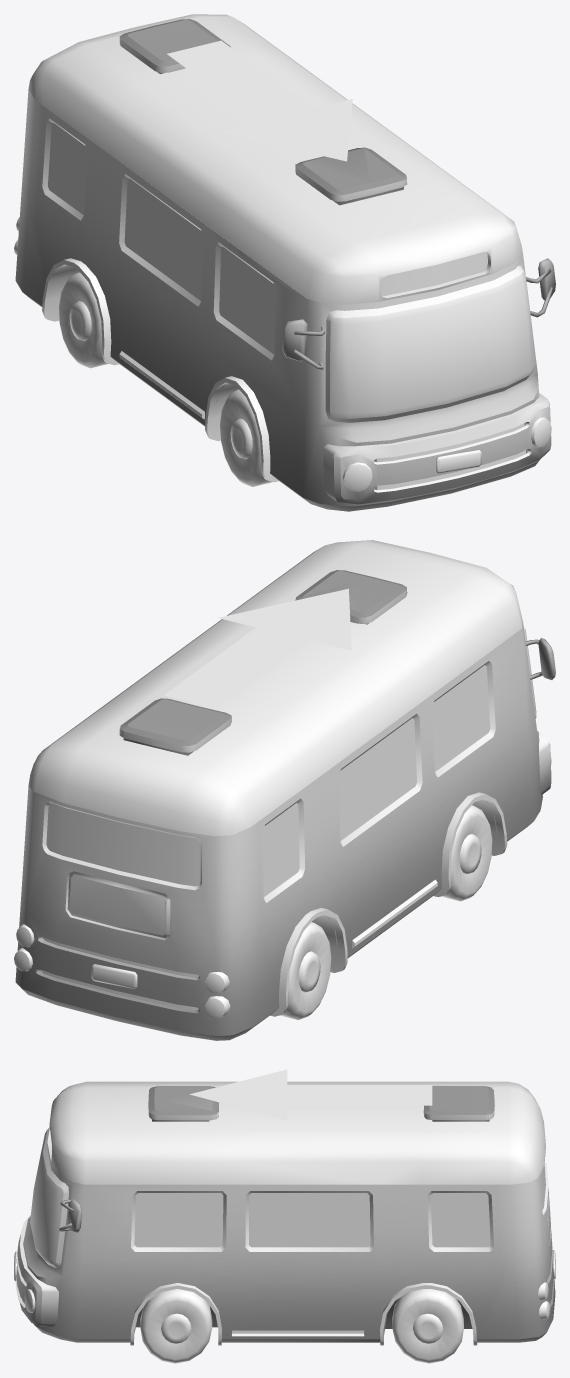
The model's file is cpi_1 Van_SixSeater.fbx.
3 renders of one model, top to bottom at view 1: azimuth 30°, elevation 25°; view 2: azimuth 150°, elevation 25°; view 3: azimuth 270°, elevation 25°, orthographic. The views are drawn at different scales.
Visible parts, largest first — view 1: Van_roof__Removable__color, Van_body_color, windows001, Arrow, Van_additional_stuff, Wheel_M_R001, Wheel_F_R001; view 2: Van_body_color, Van_roof__Removable__color, windows001, Arrow, Van_additional_stuff, Wheel_M_R001, Wheel_F_R001; view 3: Van_body_color, Van_roof__Removable__color, windows001, Arrow, Wheel_M_L001, Wheel_F_L001, Van_additional_stuff.
Part boxes in pixels (box(x1,y1,x2,y2)): Van_roof__Removable__color: box(28, 14, 522, 304); Van_body_color: box(15, 89, 555, 511); windows001: box(42, 118, 536, 422); Arrow: box(167, 40, 352, 161); Van_additional_stuff: box(14, 216, 551, 491); Wheel_M_R001: box(59, 272, 108, 368); Wheel_F_R001: box(220, 389, 272, 486); Van_body_color: box(15, 623, 555, 1040); Van_roof__Removable__color: box(28, 540, 522, 836); windows001: box(42, 626, 536, 902); Arrow: box(164, 588, 351, 708); Van_additional_stuff: box(14, 755, 551, 1018); Wheel_M_R001: box(280, 922, 331, 1019); Wheel_F_R001: box(441, 805, 492, 901); Van_body_color: box(15, 1144, 555, 1342); Van_roof__Removable__color: box(47, 1081, 545, 1184); windows001: box(30, 1127, 548, 1267); Arrow: box(189, 1069, 432, 1120); Wheel_M_L001: box(392, 1289, 463, 1363); Wheel_F_L001: box(140, 1289, 212, 1363); Van_additional_stuff: box(14, 1250, 555, 1345).
Bounding box in the file's own units: 124 × 126 × 273.
